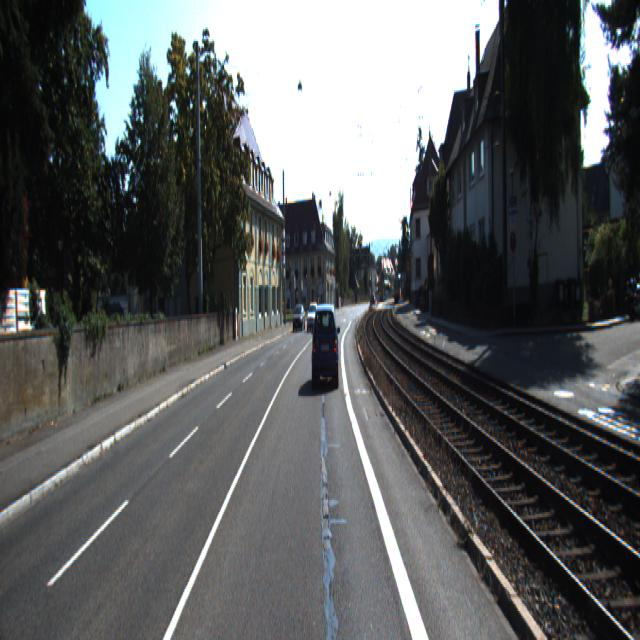Car: (311, 302, 340, 391), (307, 302, 320, 331), (293, 305, 306, 333)
